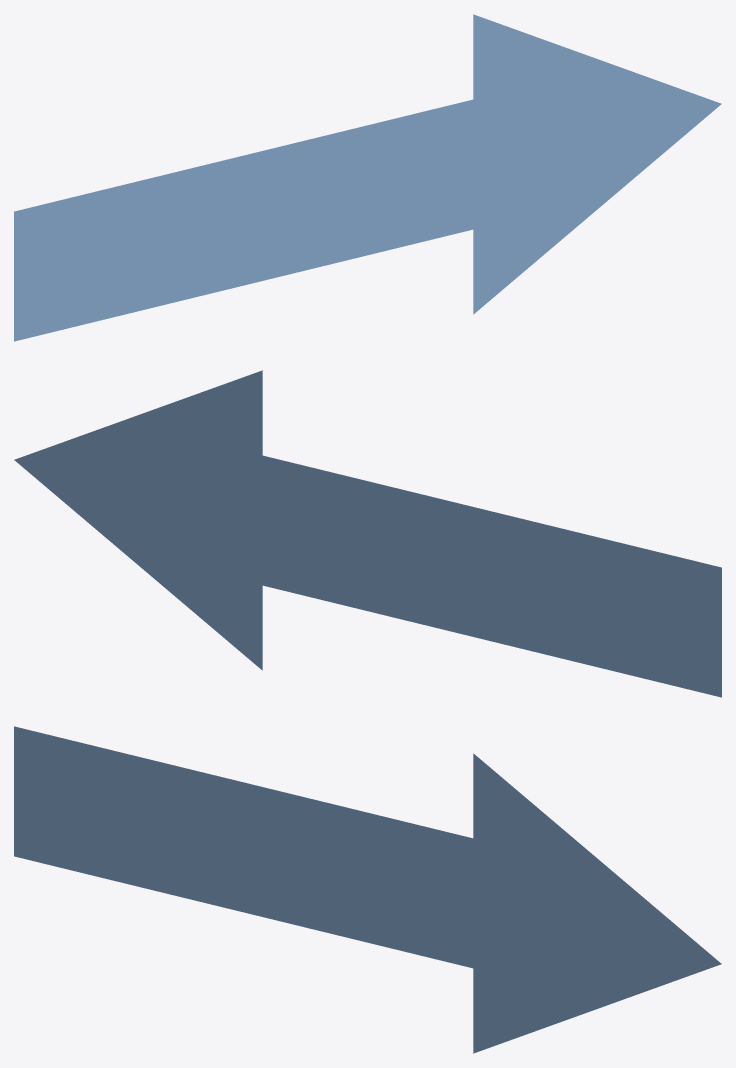
Rendered from arrow_move.glb.
3 renders of one model, top to bottom at view 1: azimuth 30°, elevation 25°; view 2: azimuth 150°, elevation 25°; view 3: azimuth 330°, elevation 25°, orthographic.
Visible parts, largest first — view 1: arrow; view 2: arrow; view 3: arrow.
Boxes of the visible parts, left/top/right/bottom form: arrow: left=14, top=14, right=721, bottom=341; arrow: left=14, top=370, right=721, bottom=697; arrow: left=14, top=726, right=721, bottom=1053.
Size of the model in its own units: 0.00103 by 0.000416 by 1.76e-10.
